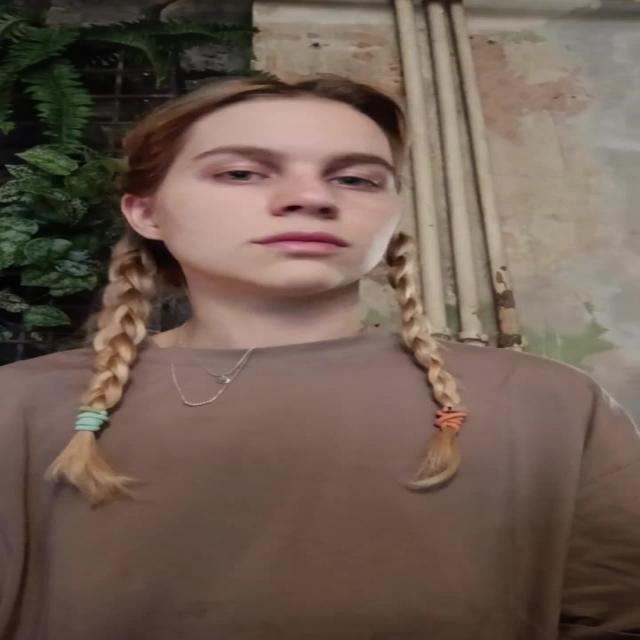earlobe: (121, 192, 164, 241)
